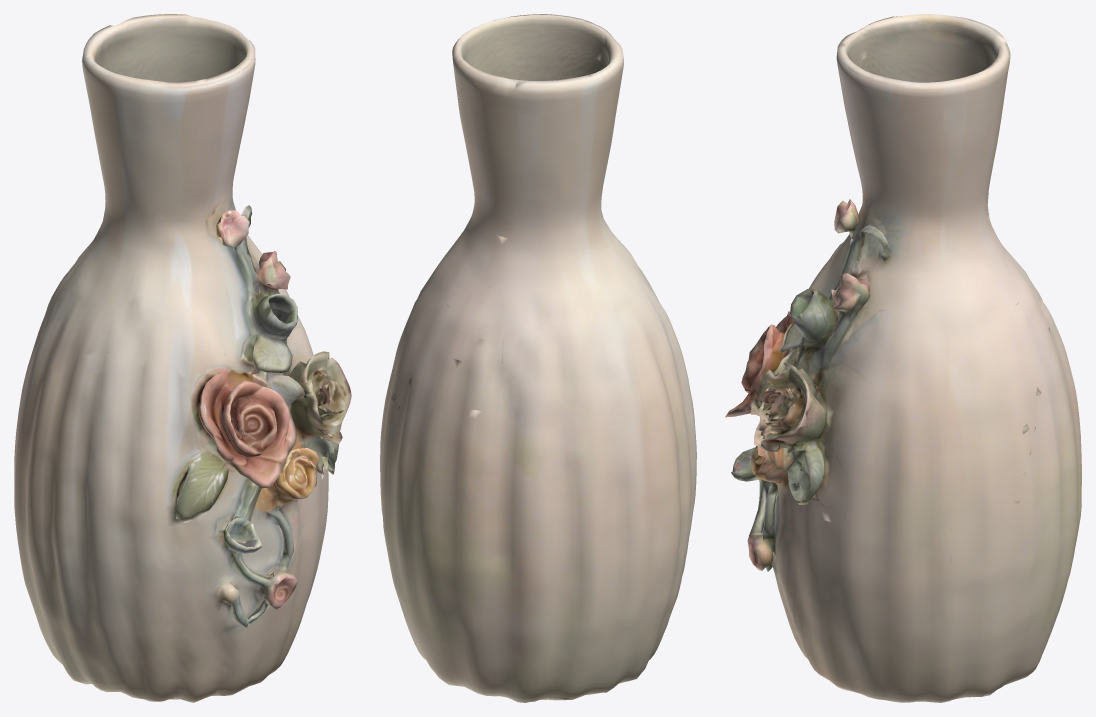
Rendered from Floral_Elegance_Vase_0414171440_texture.glb.
The picture shows the model from 3 angles, left to right: view 1: azimuth 30°, elevation 25°; view 2: azimuth 150°, elevation 25°; view 3: azimuth 270°, elevation 25°; orthographic projection.
Size of the model in its own units: 0.9518 by 2 by 1.06.
1 material, 1 textured.
